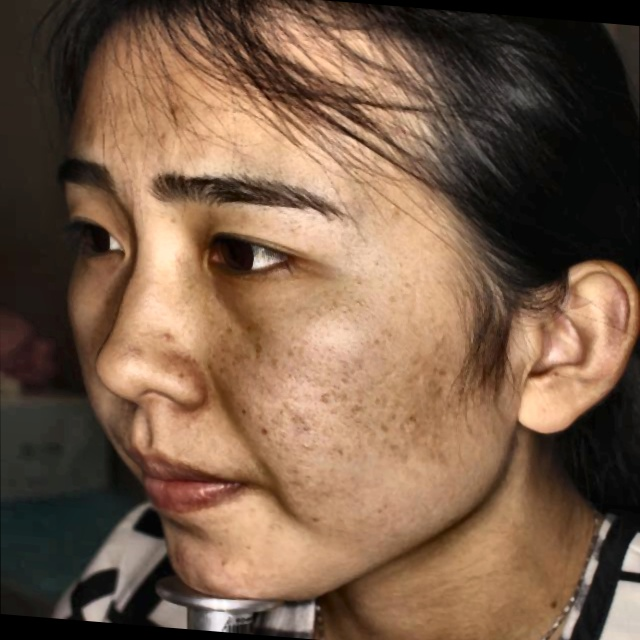comedone: (285, 401, 315, 431), (152, 324, 178, 350)
